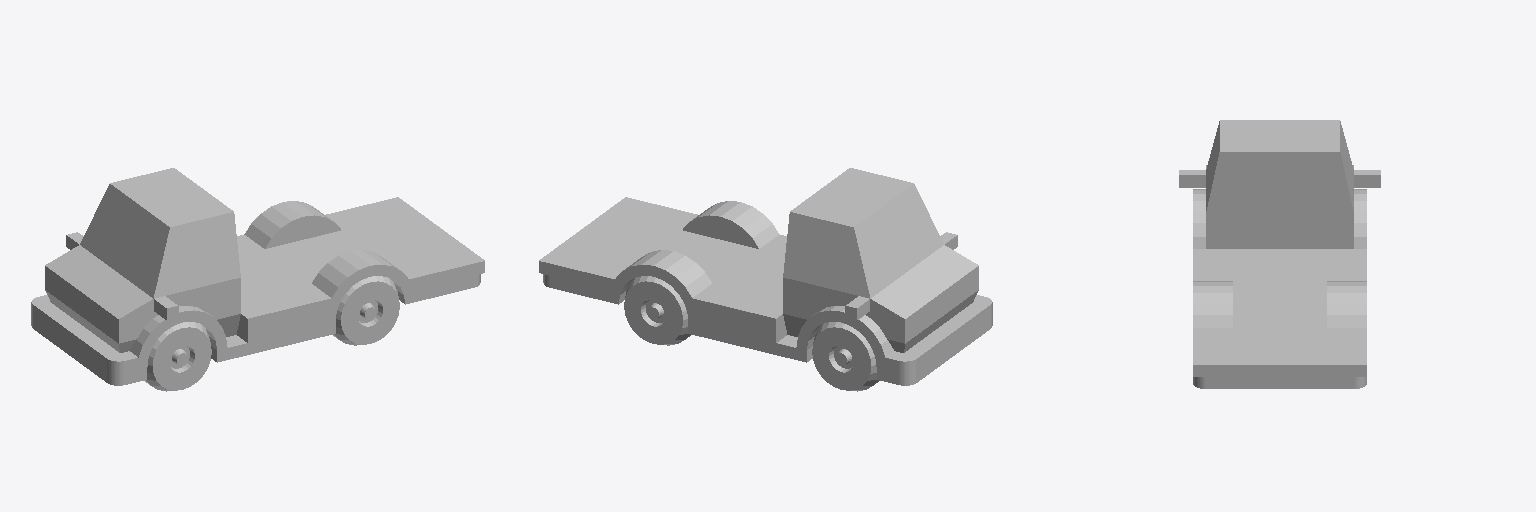
The model's file is deliveryFlat.obj.
3 renders of one model, left to right at view 1: azimuth 30°, elevation 25°; view 2: azimuth 150°, elevation 25°; view 3: azimuth 270°, elevation 25°, orthographic.
Parts seen in each view (by area): view 1: body, wheel_frontLeft, wheel_backLeft; view 2: body, wheel_frontRight, wheel_backRight; view 3: body.
Part boxes in pixels (left/top/right/bottom): body: left=31, top=168, right=484, bottom=385; wheel_frontLeft: left=144, top=322, right=211, bottom=391; wheel_backLeft: left=333, top=276, right=399, bottom=345; body: left=539, top=168, right=992, bottom=385; wheel_frontRight: left=812, top=322, right=879, bottom=391; wheel_backRight: left=624, top=276, right=690, bottom=345; body: left=1179, top=120, right=1380, bottom=388.
Bounding box in the file's own units: 2.4 × 0.975 × 1.12.